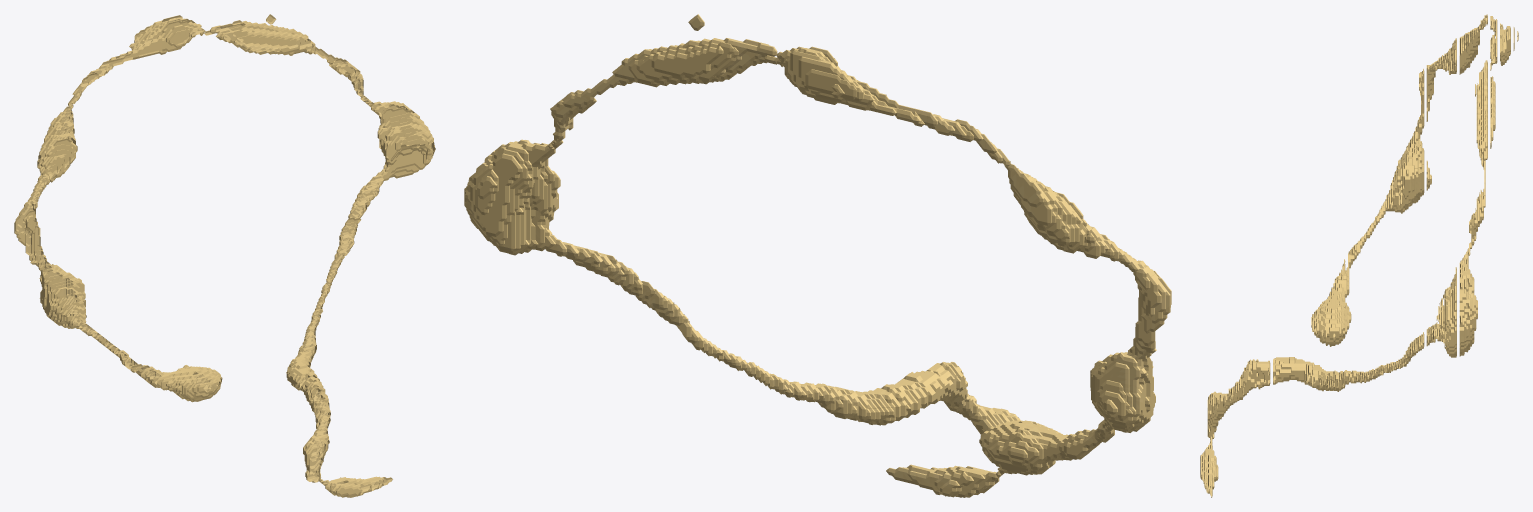
The model's file is SVV_RIMR.gltf.
3 renders of one model, left to right at view 1: azimuth 30°, elevation 25°; view 2: azimuth 150°, elevation 25°; view 3: azimuth 270°, elevation 25°, orthographic. The views are drawn at different scales.
Parts seen in each view (by area): view 1: RIMR; view 2: RIMR; view 3: RIMR.
Part boxes in pixels (<box>): RIMR: <box>14,14,435,497</box>; RIMR: <box>464,14,1171,497</box>; RIMR: <box>1200,14,1518,497</box>.
Size of the model in its own units: 108088 by 93726 by 63522.
